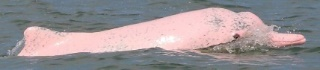fin: (11, 6, 309, 63)
